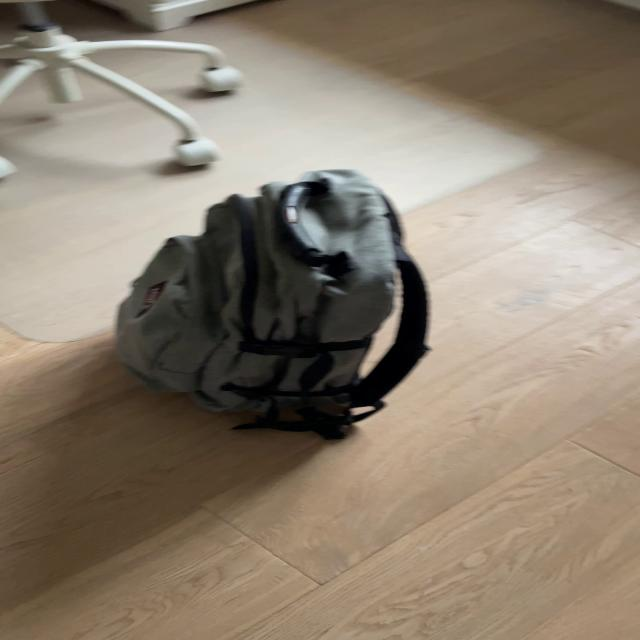backpack: (100, 155, 440, 443)
